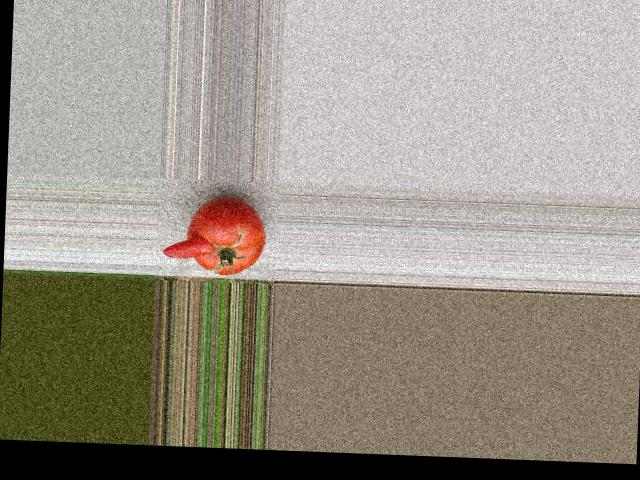tomato: (185, 197, 267, 276)
